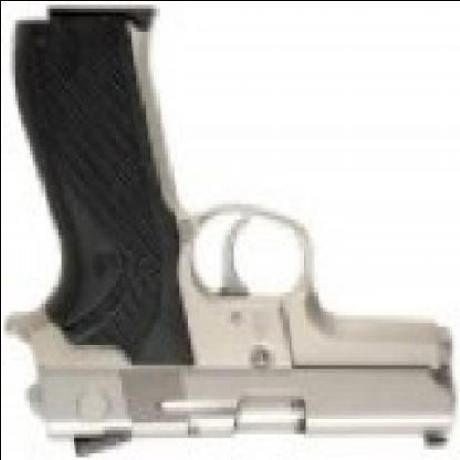weapon: (17, 10, 449, 454)
